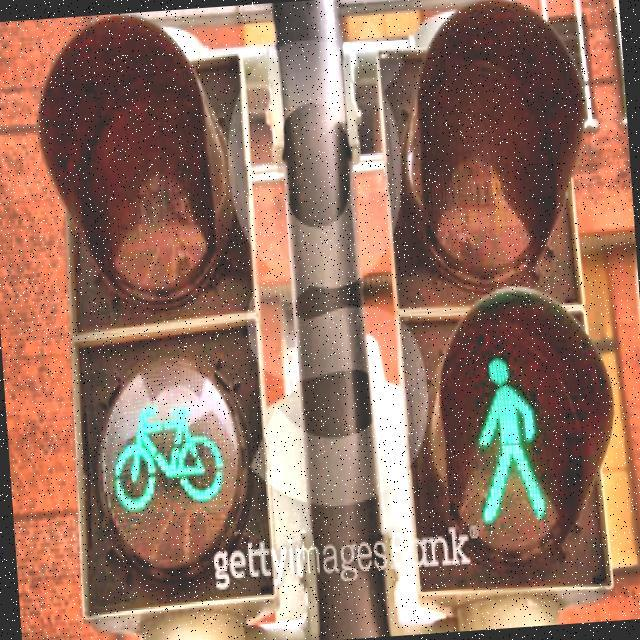green_light: (464, 348, 549, 526)
